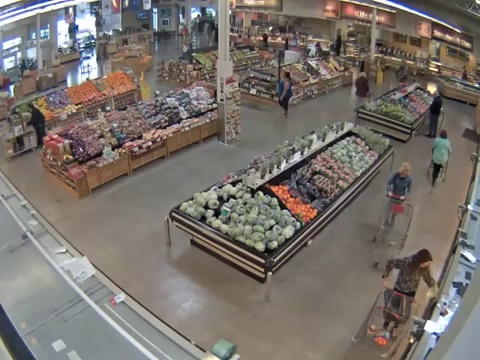face: (421, 257, 431, 270), (403, 166, 410, 176)
